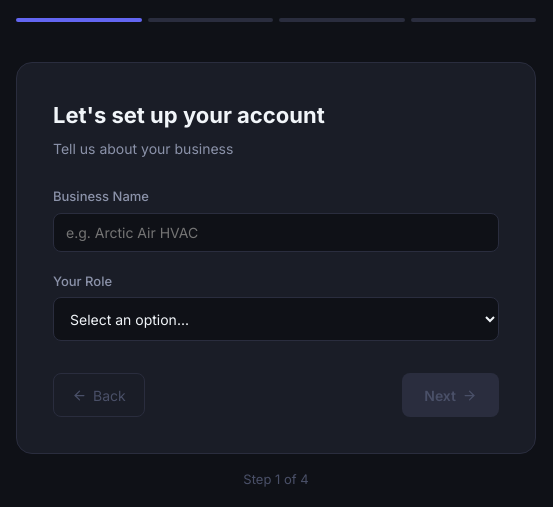
Test: OnboardingPage smoke tests › advances to step 2 when fields filled
This screenshot has width=553, height=507.
Type "My HVAC Co" into the field with placeholder "e.g. Arctic Air HVAC". click: (276, 232)
box: [53, 213, 499, 252]
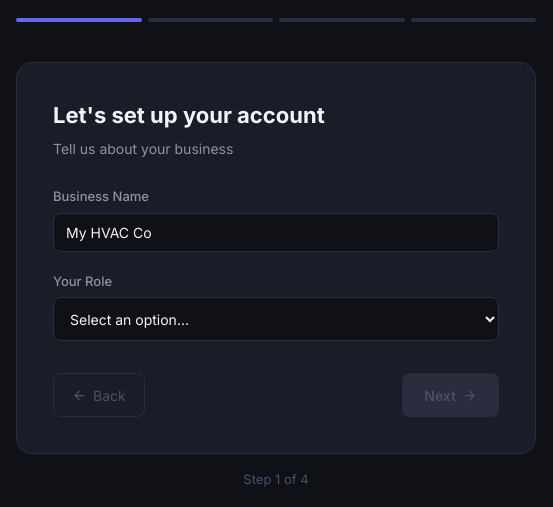
Select "Owner / Operator" in the dropdown. click: (276, 319)
box: [53, 297, 499, 341]
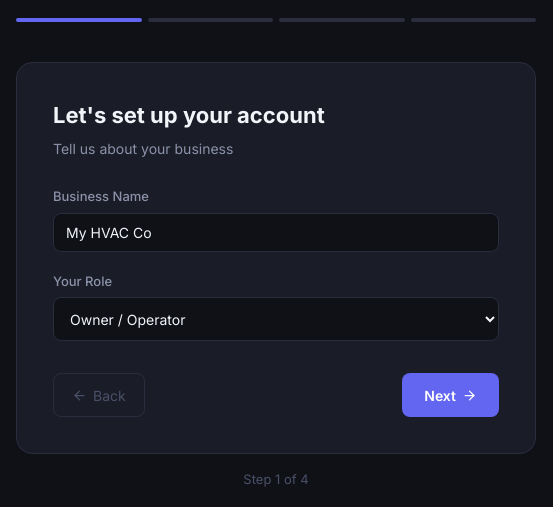
Click the button "Next". click: (451, 395)
box: [402, 373, 499, 417]
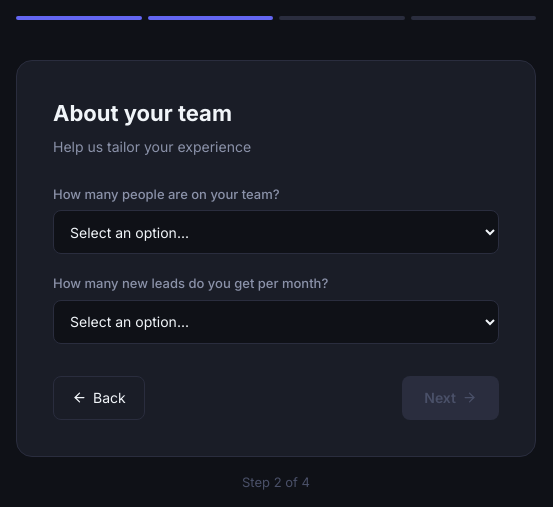
Check: the heading "About your team" is shown, box [53, 100, 232, 126]
